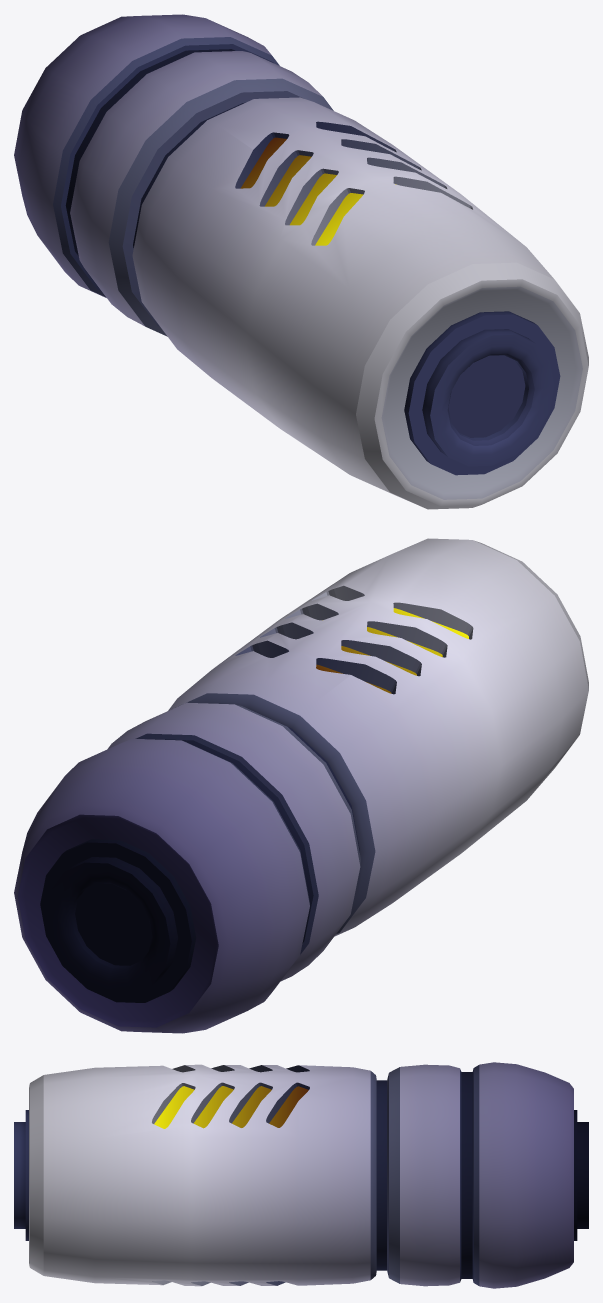
Rendered from CylinderCrate01.fbx.
3 renders of one model, top to bottom at view 1: azimuth 30°, elevation 25°; view 2: azimuth 150°, elevation 25°; view 3: azimuth 270°, elevation 25°, orthographic. The views are drawn at different scales.
Visible parts, largest first — view 1: C03_SUBD; view 2: C03_SUBD; view 3: C03_SUBD.
Boxes of the visible parts, x1,y1,x2,y2 form: C03_SUBD: [14, 14, 588, 509]; C03_SUBD: [14, 538, 588, 1033]; C03_SUBD: [14, 1062, 588, 1288].
Bounding box in the file's own units: 716 × 716 × 1815.
1 material, 1 textured.
